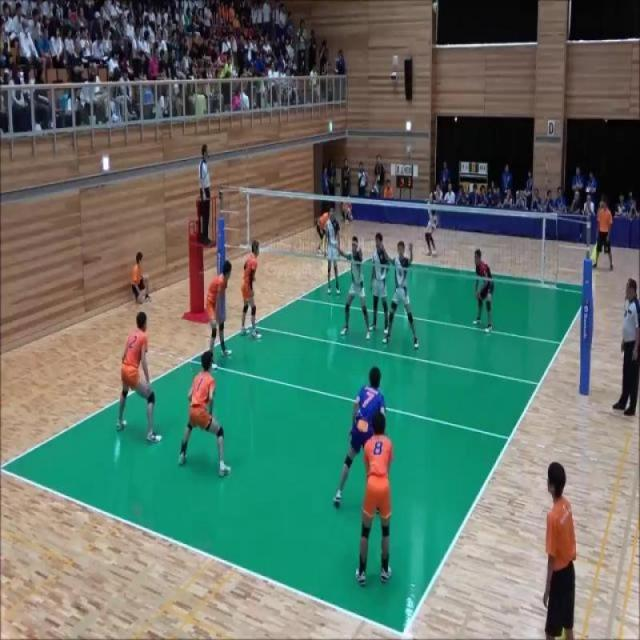volleyball: (433, 0, 438, 8)
